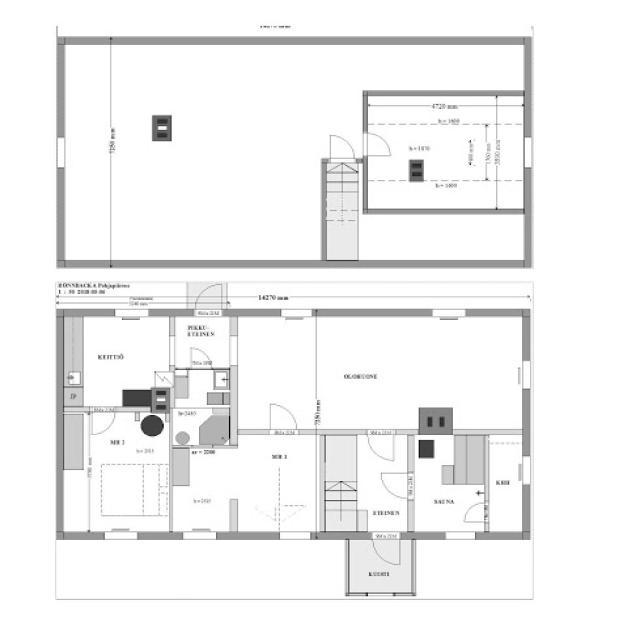door: (173, 320, 230, 370), (276, 501, 316, 540), (377, 466, 416, 502), (368, 532, 403, 570), (365, 428, 397, 466), (264, 402, 300, 435), (192, 281, 225, 316), (323, 131, 358, 164), (360, 129, 397, 159), (182, 344, 216, 371), (456, 500, 490, 526), (89, 408, 117, 437)
window: (516, 353, 534, 394), (275, 306, 319, 322), (425, 306, 471, 321), (98, 528, 144, 543), (52, 130, 68, 172), (520, 133, 536, 171), (178, 528, 220, 542), (519, 453, 534, 487), (440, 529, 478, 542), (110, 310, 154, 320), (365, 591, 396, 599)
zone: (60, 44, 319, 260), (318, 314, 526, 428), (360, 99, 530, 216), (76, 408, 170, 536), (234, 314, 318, 434), (64, 314, 173, 398), (412, 433, 488, 531), (485, 434, 524, 536), (171, 312, 233, 367), (169, 404, 234, 449), (165, 368, 232, 409)
